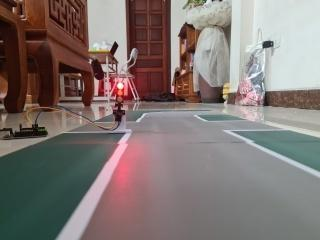red: (107, 78, 130, 115)
